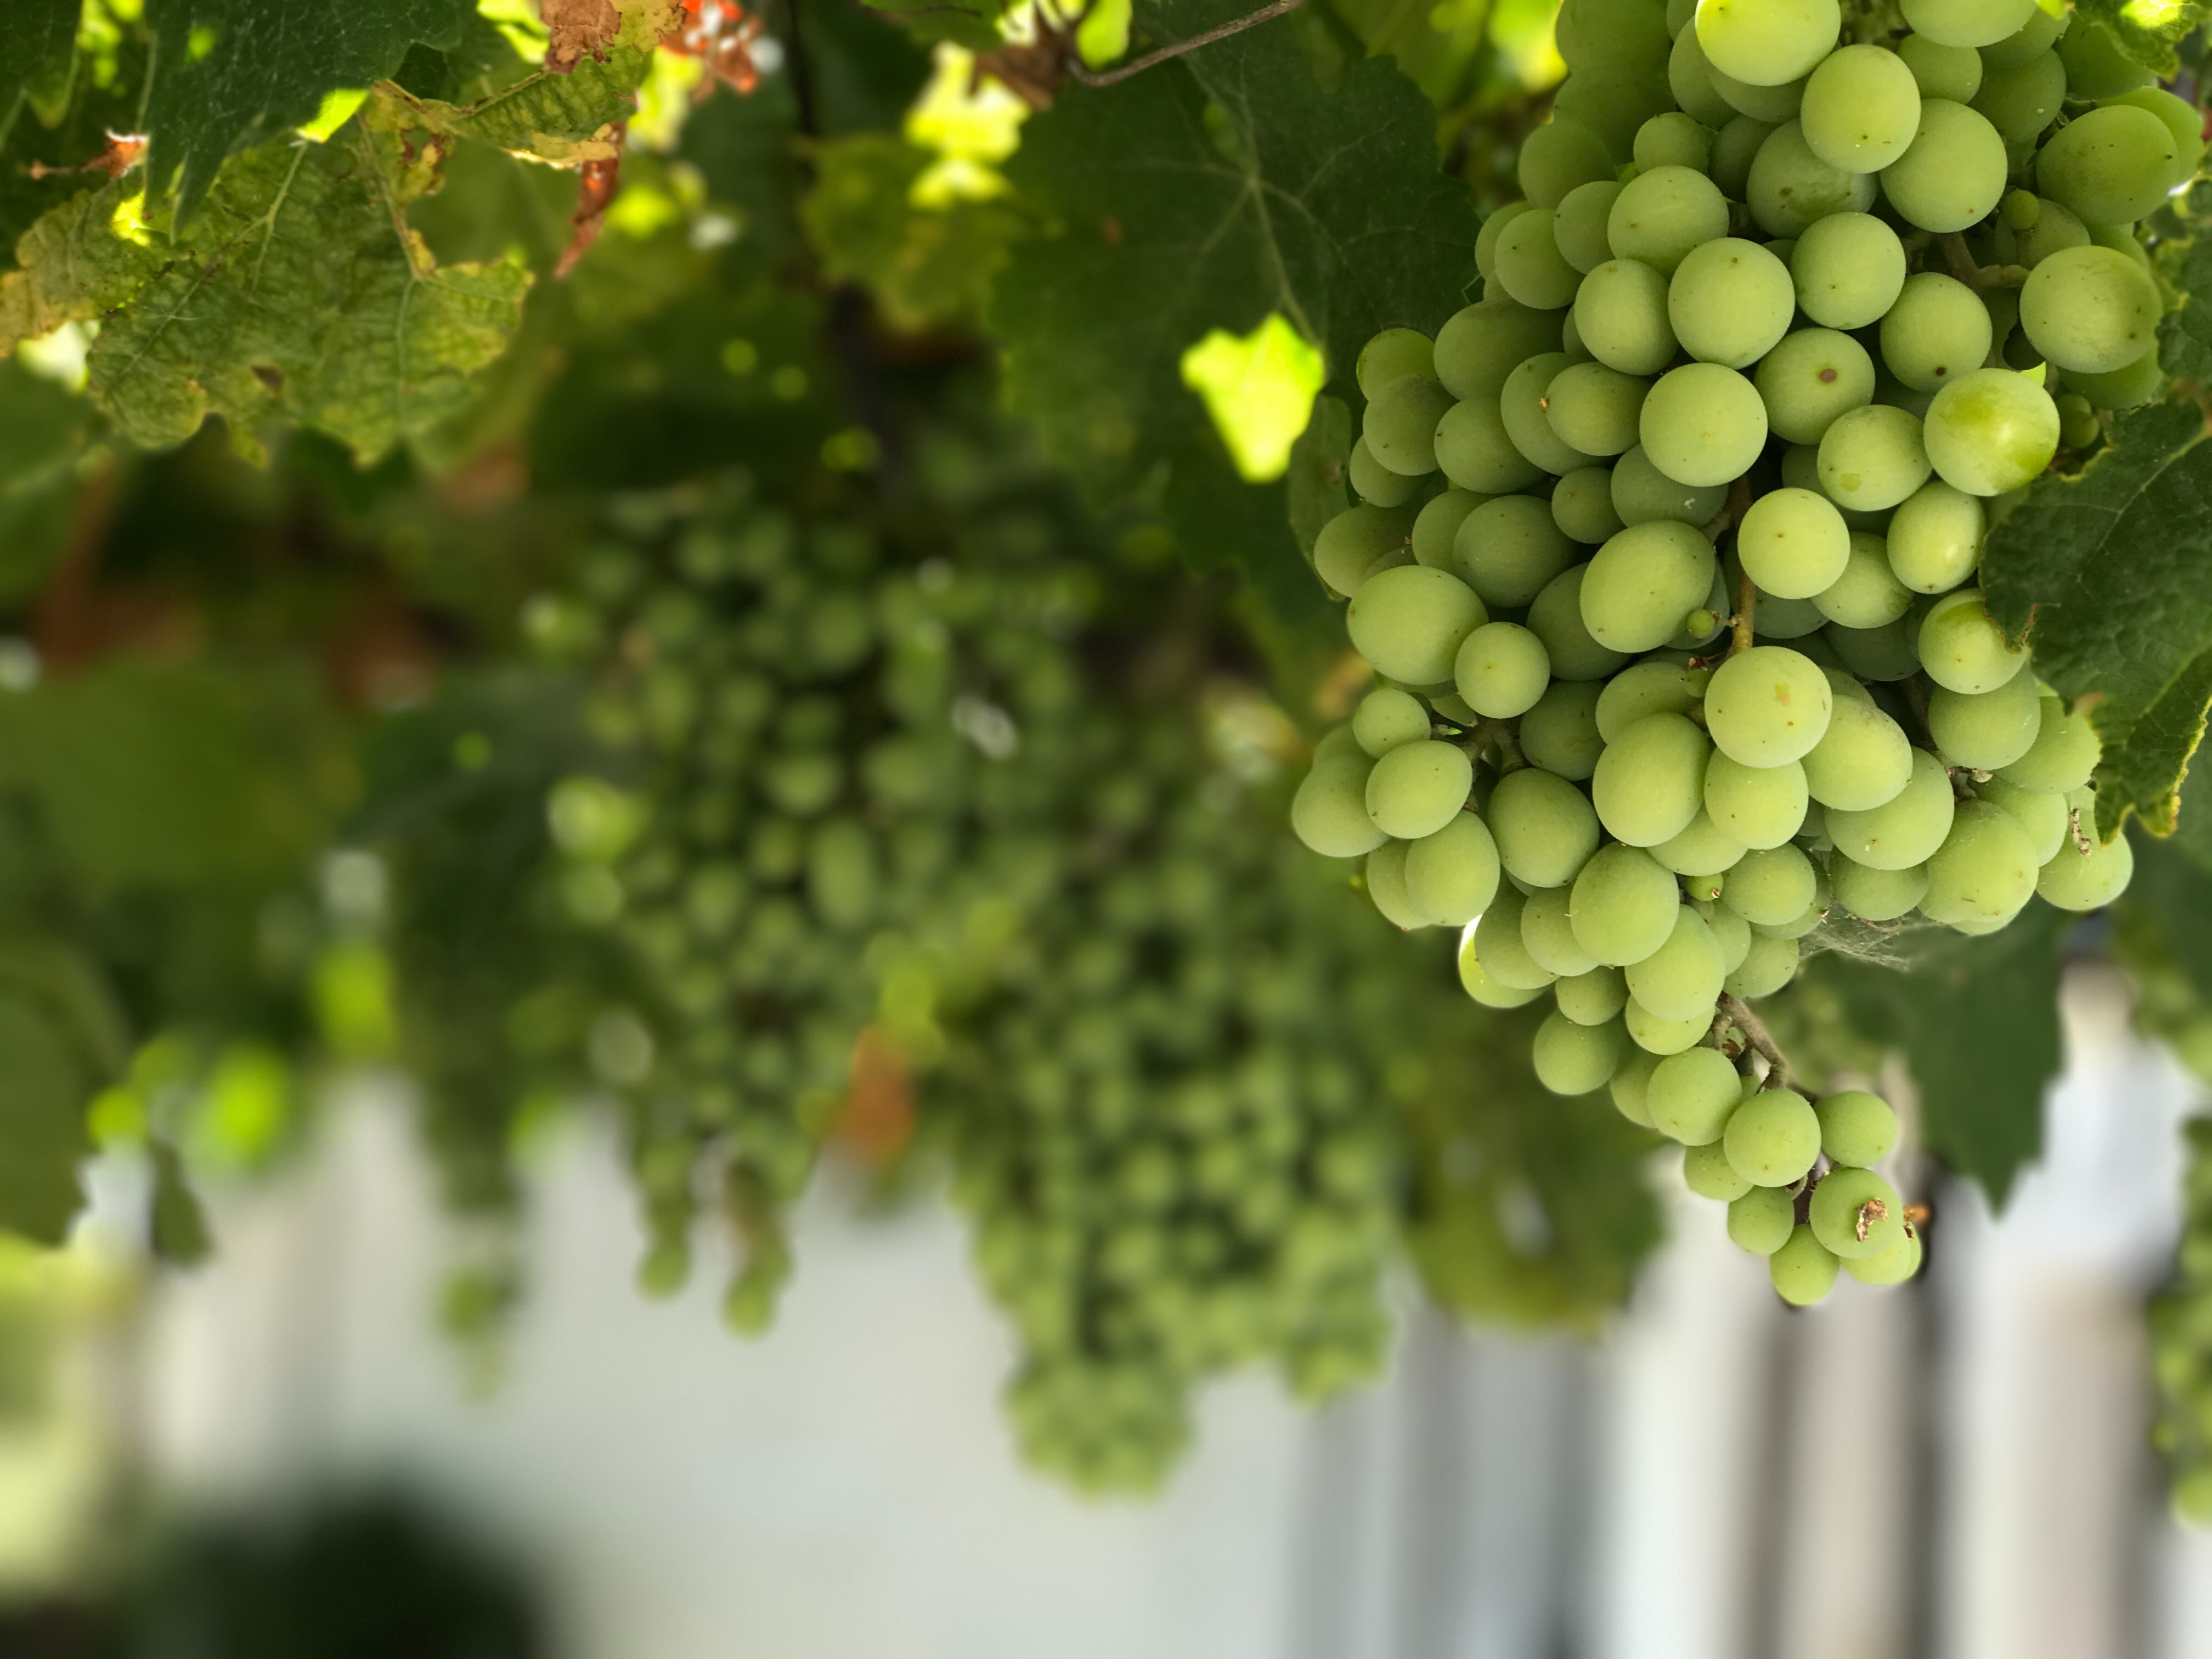Healthy: (1916, 369, 2060, 502), (1581, 523, 1719, 655), (2043, 106, 2191, 223), (2020, 240, 2168, 357), (1644, 368, 1785, 488), (1737, 113, 1879, 225), (1343, 579, 1482, 688), (1796, 40, 1918, 164), (1428, 490, 1568, 598), (1799, 408, 1940, 514), (1827, 751, 1958, 863), (1590, 727, 1705, 849), (1954, 800, 2052, 943), (1677, 240, 1785, 364), (1623, 924, 1747, 1032), (2047, 810, 2155, 931), (1796, 218, 1912, 322), (1804, 532, 1923, 634), (1691, 0, 1832, 85), (1388, 751, 1498, 857), (1893, 113, 1998, 225), (1613, 176, 1728, 277), (1428, 308, 1554, 401), (1289, 756, 1388, 871), (1923, 589, 2029, 695), (1737, 500, 1846, 603), (1820, 695, 1914, 810), (1689, 856, 1827, 932), (1460, 610, 1557, 718), (1665, 24, 1792, 106), (1566, 268, 1669, 369), (1322, 688, 1489, 746), (1496, 788, 1585, 896), (1468, 204, 1561, 307), (1413, 817, 1496, 931), (1507, 680, 1594, 788), (1890, 500, 1996, 587), (1592, 850, 1674, 962), (1979, 54, 2074, 148), (1716, 1089, 1815, 1180), (1435, 406, 1543, 488), (1568, 162, 1644, 277), (2040, 687, 2113, 805), (1505, 901, 1601, 988), (1658, 1049, 1754, 1134), (1308, 525, 1420, 598), (1716, 774, 1822, 850), (1822, 1087, 1921, 1169), (1928, 694, 2038, 767), (1592, 653, 1689, 735), (2060, 23, 2170, 94), (1627, 108, 1735, 179), (1601, 462, 1735, 518), (1521, 113, 1606, 200), (1820, 870, 1928, 936), (1557, 371, 1635, 460), (1346, 324, 1432, 403), (1524, 1018, 1609, 1096), (1355, 406, 1439, 484), (1723, 1183, 1808, 1249), (1890, 37, 1991, 92), (1437, 932, 1512, 1006), (1339, 450, 1421, 516), (1667, 1133, 1749, 1195), (1740, 934, 1815, 1002), (1892, 0, 2029, 35), (1763, 1248, 1836, 1309), (1362, 859, 1413, 941), (1839, 643, 1926, 688), (1623, 1026, 1731, 1058), (1609, 1056, 1653, 1133), (1554, 981, 1620, 1026)
Unhealthy: (1702, 650, 1855, 765), (1761, 331, 1876, 443), (1885, 277, 1996, 385), (1843, 1202, 1930, 1298), (1810, 1175, 1900, 1256)
